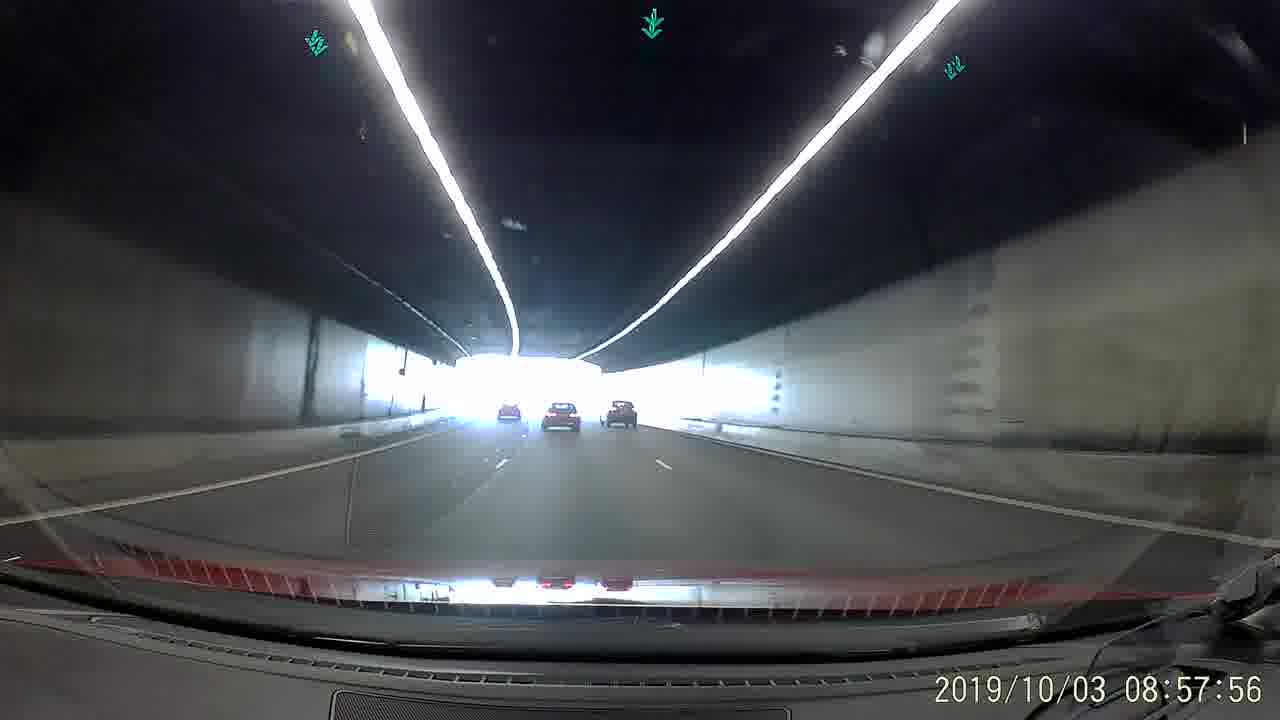car: (542, 397, 583, 432), (597, 397, 640, 430), (497, 401, 522, 425)
